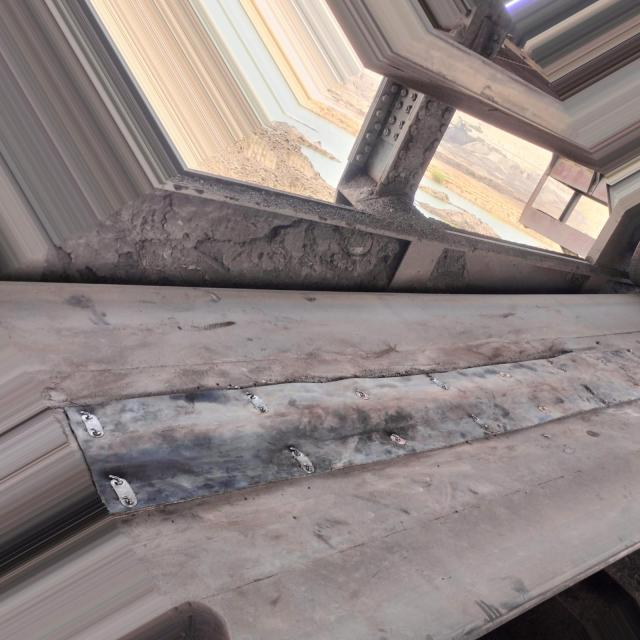patch work: (53, 335, 640, 522)
